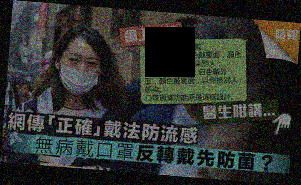with_mask: (56, 50, 101, 98)
